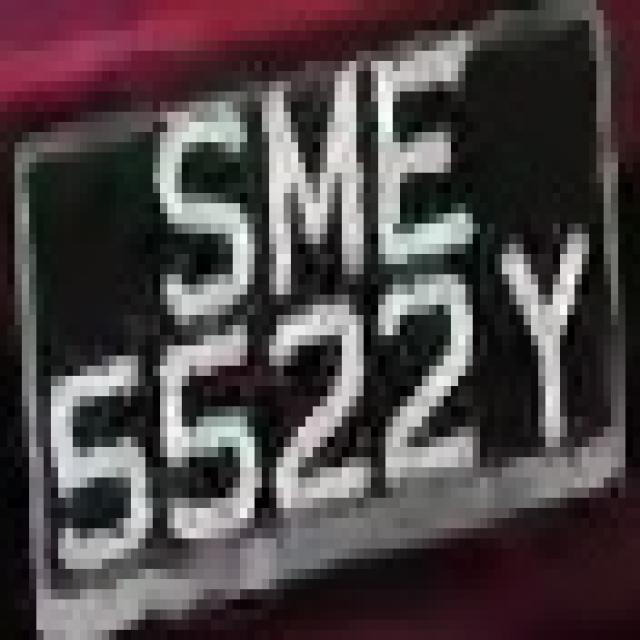2: (232, 284, 364, 548), (371, 244, 480, 538)
5: (22, 325, 167, 599), (153, 304, 269, 548)
E: (357, 31, 488, 294)
M: (225, 51, 371, 315)
S: (131, 71, 269, 366)
Y: (466, 183, 589, 477)
